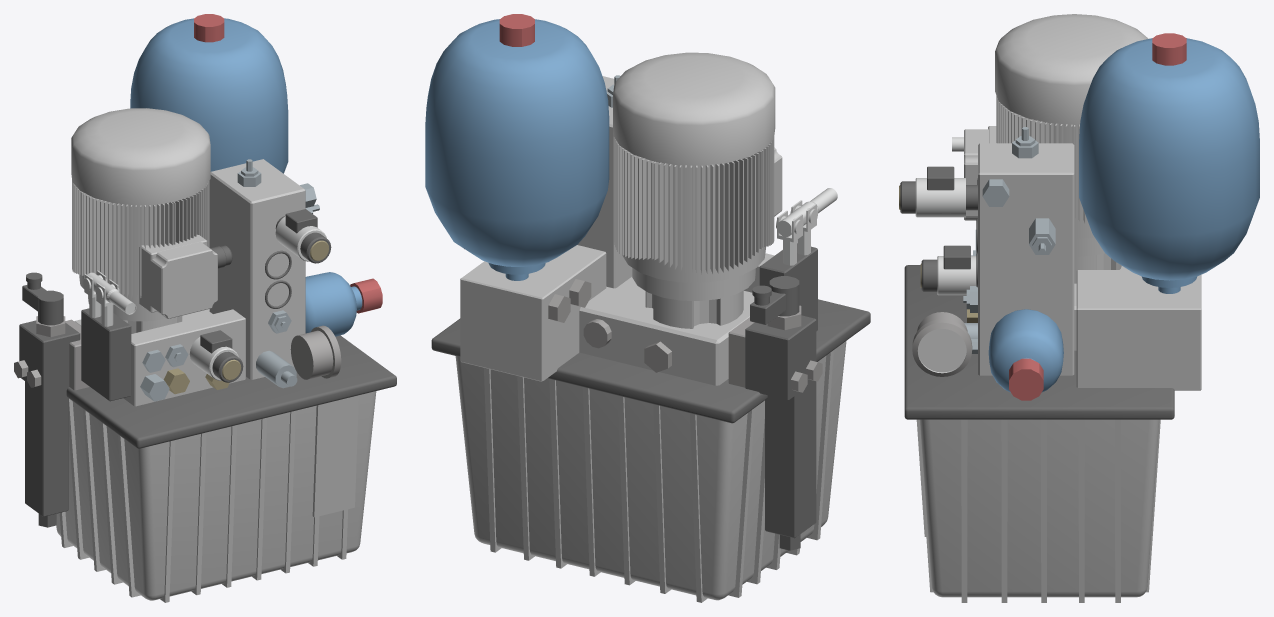
3 views of the same model, side by side, from view 1: azimuth 30°, elevation 25°; view 2: azimuth 150°, elevation 25°; view 3: azimuth 270°, elevation 25° (orthographic). The views are drawn at different scales.
Visible parts, largest first — view 1: pCube88, polySurface690, pCylinder283, pCube92, pCube89, pCube120, polySurface643, polySurface645, pCube90, pCube94, polySurface644, pCube119 (+14 smaller); view 2: pCube88, polySurface690, pCylinder283, pCube118, pCube120, pCube89, polySurface643, pCube91, polySurface644, pCube92, pCube119, pCube95 (+7 smaller); view 3: pCylinder283, pCube88, pCube92, polySurface690, pCube118, pCube89, polySurface644, pSphere1, pCylinder294, pCylinder369, pCylinder353, polySurface645 (+10 smaller).
Boxes of the visible parts, <box> form: pCube88: <box>56,391,376,600</box>; polySurface690: <box>71,108,210,333</box>; pCylinder283: <box>130,18,288,173</box>; pCube92: <box>209,159,305,379</box>; pCube89: <box>66,335,396,448</box>; pCube120: <box>19,320,80,516</box>; polySurface643: <box>160,410,347,602</box>; polySurface645: <box>139,234,217,318</box>; pCube90: <box>312,395,358,517</box>; pCube94: <box>123,309,245,406</box>; polySurface644: <box>59,398,140,597</box>; pCube119: <box>81,305,131,401</box>; pCube88: <box>455,341,846,600</box>; polySurface690: <box>613,52,775,328</box>; pCylinder283: <box>425,19,609,280</box>; pCube118: <box>460,245,606,381</box>; pCube120: <box>745,315,816,538</box>; pCube89: <box>431,299,870,423</box>; polySurface643: <box>484,368,707,602</box>; pCube91: <box>579,277,754,385</box>; polySurface644: <box>728,350,833,597</box>; pCube92: <box>577,76,632,288</box>; pCube119: <box>759,243,817,330</box>; pCube95: <box>728,317,754,387</box>; pCylinder283: <box>1079,38,1259,293</box>; pCube88: <box>919,419,1159,597</box>; pCube92: <box>978,143,1074,375</box>; polySurface690: <box>995,14,1148,283</box>; pCube118: <box>1076,270,1201,390</box>; pCube89: <box>904,265,1174,419</box>; polySurface644: <box>961,419,1120,602</box>; pSphere1: <box>988,309,1063,392</box>; pCylinder294: <box>912,312,972,376</box>; pCylinder369: <box>915,178,965,217</box>; pCylinder353: <box>1009,358,1043,400</box>; polySurface645: <box>964,126,996,220</box>.
Bounding box in the file's own units: 0.9068 × 1.27 × 0.7757.
